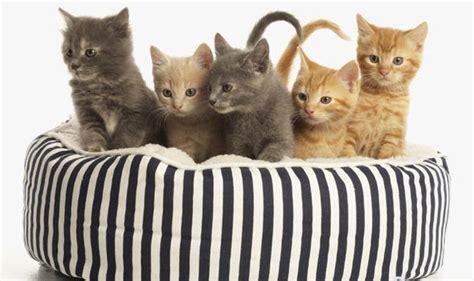cat: (58, 8, 160, 150), (208, 11, 302, 160), (340, 14, 426, 158), (275, 19, 358, 158), (150, 45, 213, 161)
